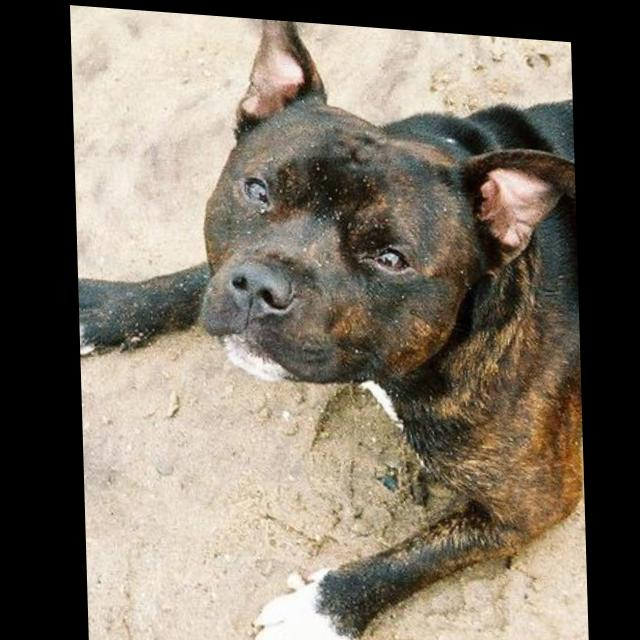staffford: (71, 5, 586, 640)
